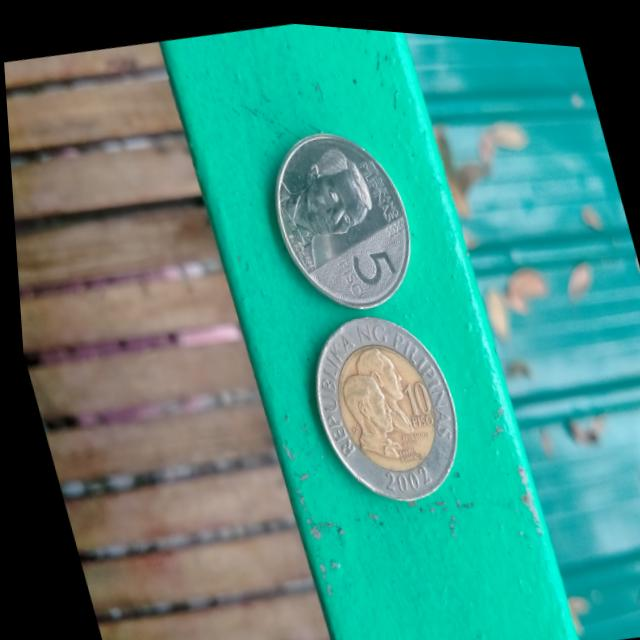10_Old_Front: (306, 315, 453, 489)
5_New_Front: (269, 133, 407, 297)
